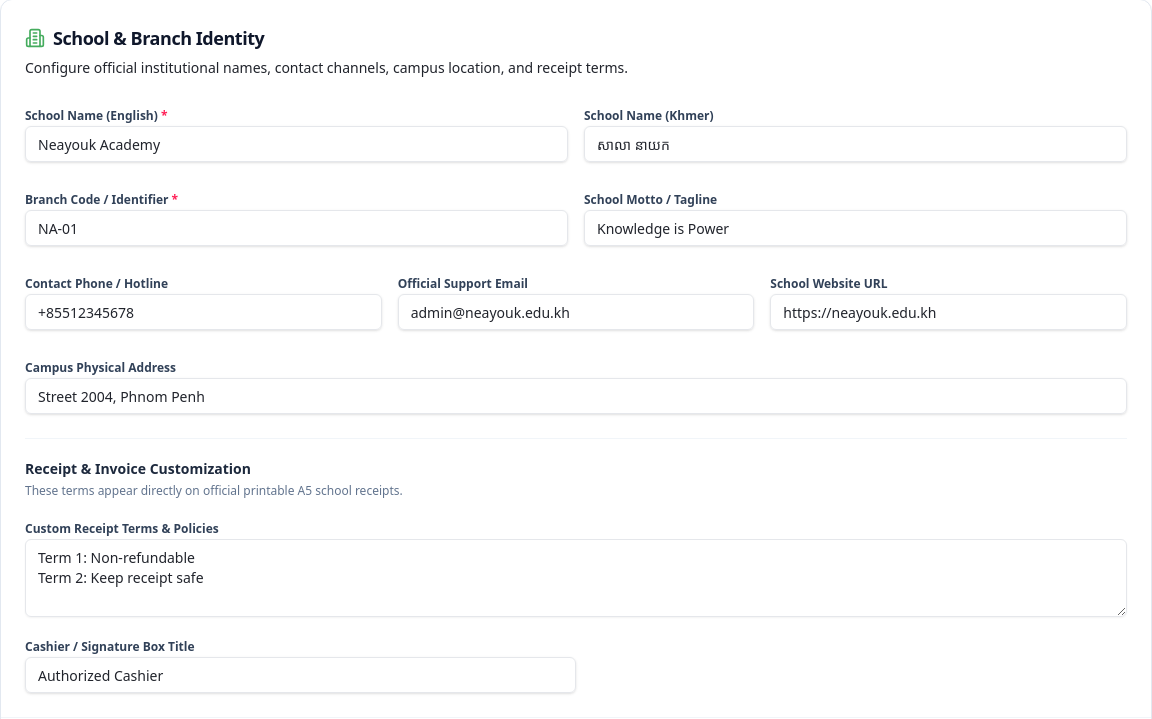
SchoolProfileCard › handles submission error gracefully
Replace the text in the field labelled "School Name (English) *" with "New Name". click: (296, 144)
box: [25,126,568,162]
(page scrolled)
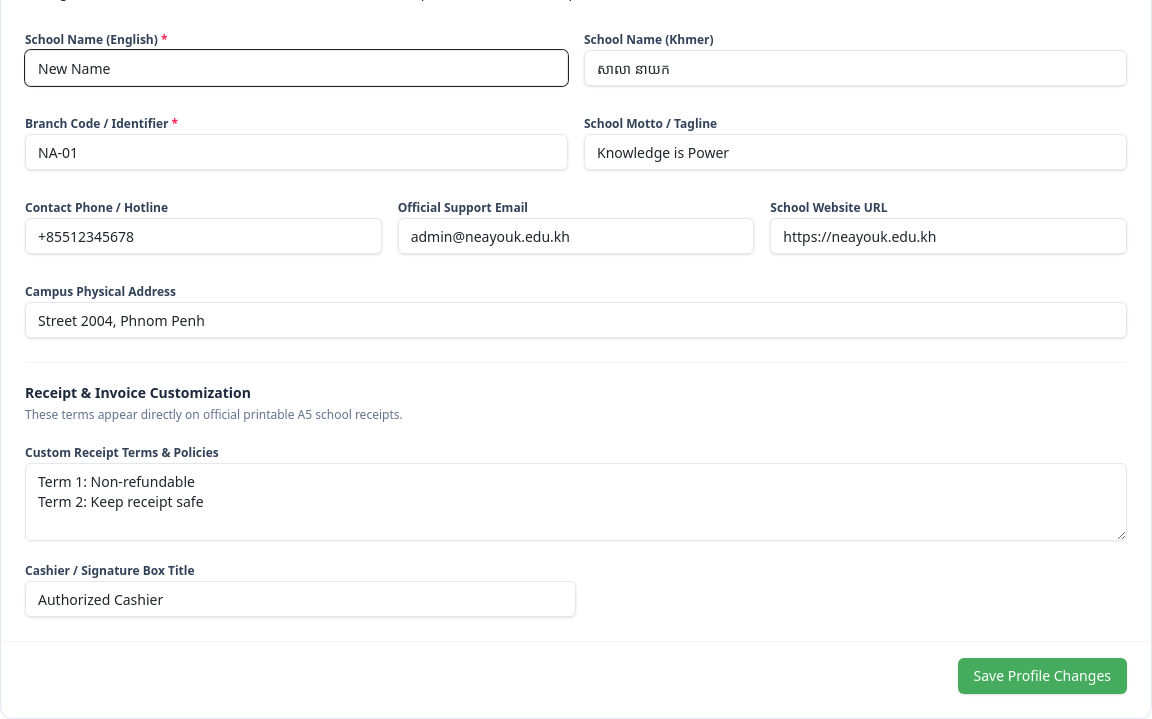
Click the button "Save Profile Changes". click: (1042, 676)
box: [958,658,1127,694]
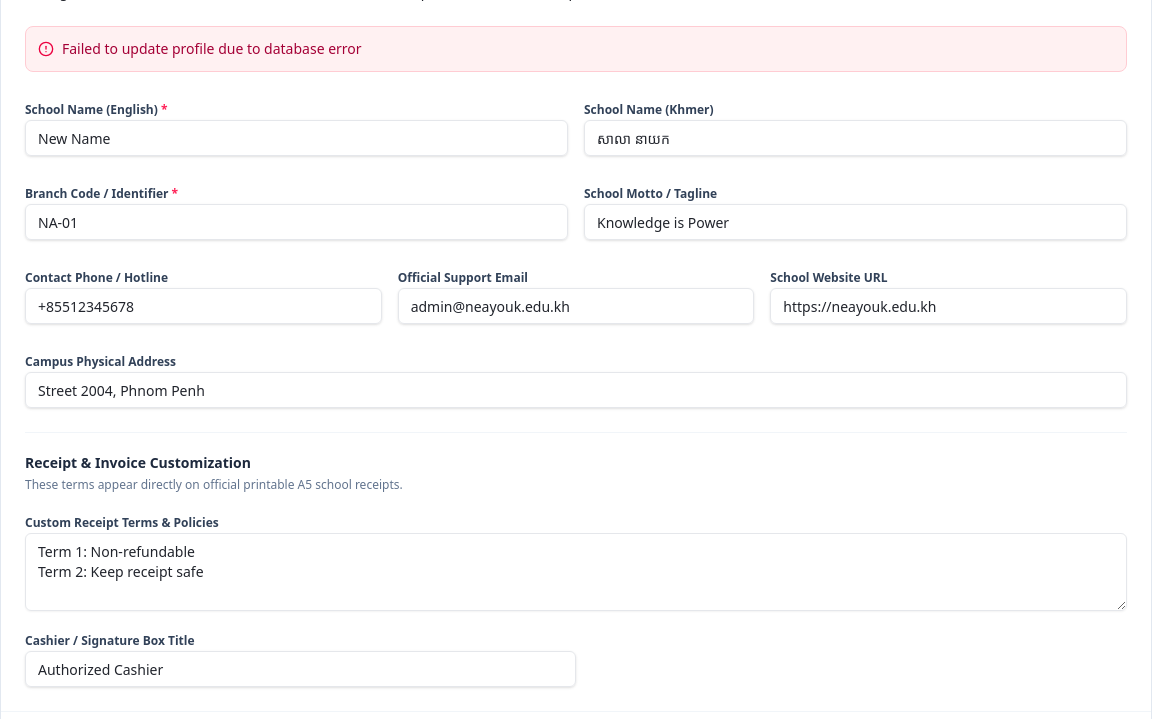
Check: the text "Failed to update profile due to database error" is shown, box [62,39,362,59]
